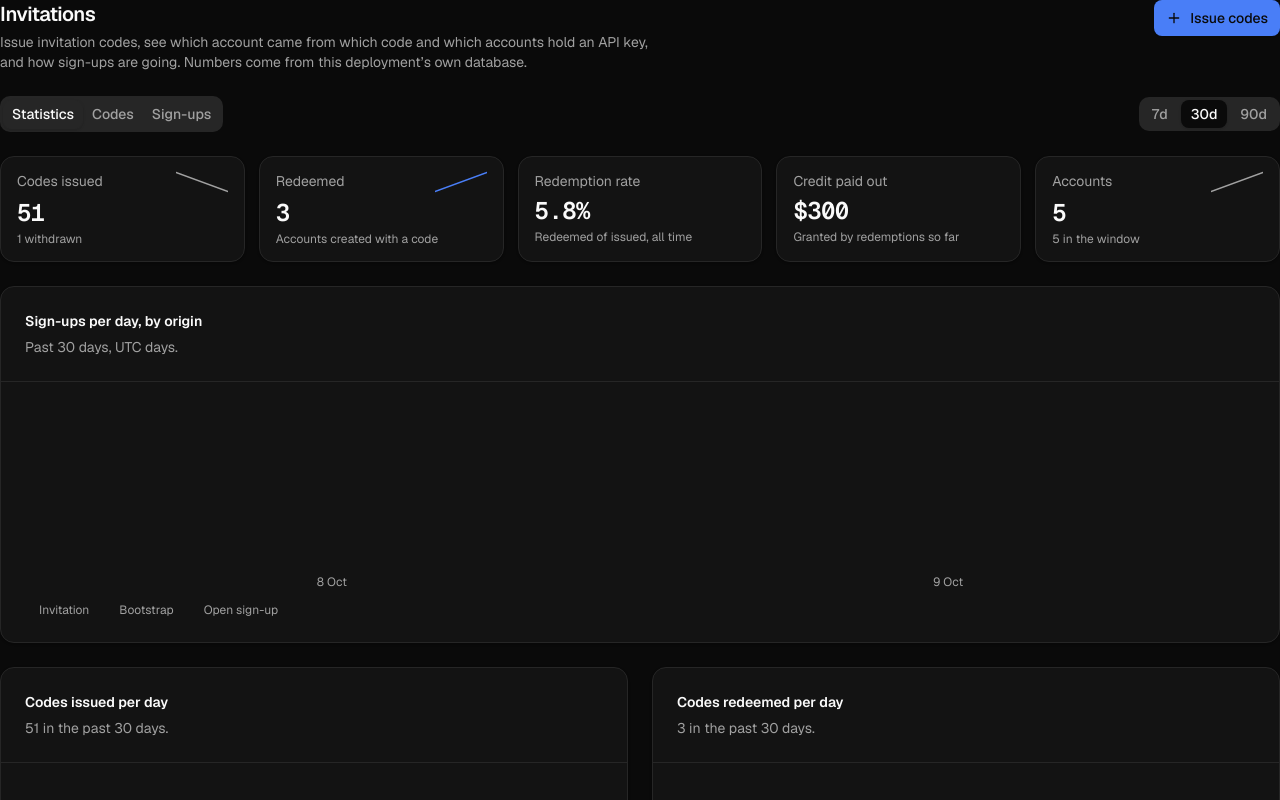
Scenario: InvitationsScreen › masks codes until asked, and copies or reveals one row at a time
Click the tab "Codes": (113, 114) [83,100,143,128]
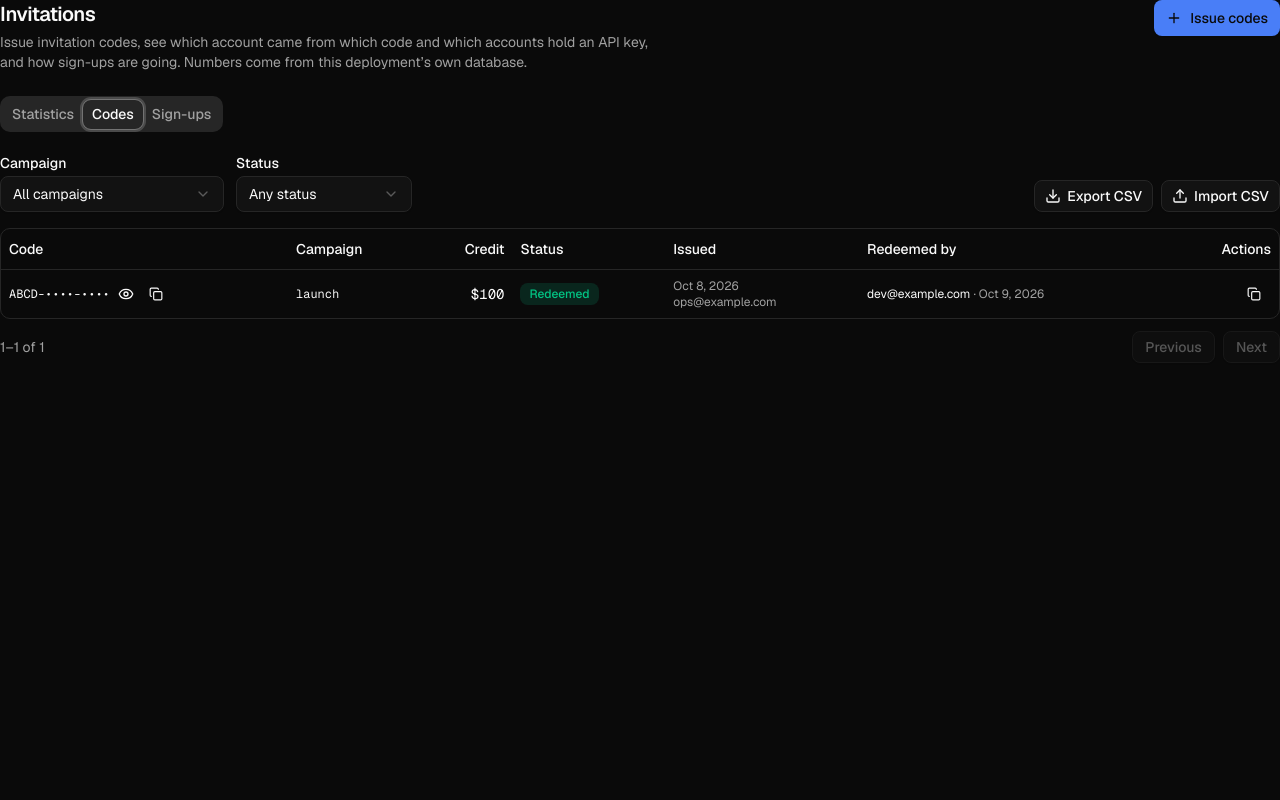
Now the text with test id "invite-code" reads "ABCD-••••-••••", box [9,286,110,302]
Now the row with test id "invite-code-row-code-1" shows "dev@example.com", box [867,286,970,302]
Now the row with test id "invite-code-row-code-1" shows "Redeemed", box [530,286,590,302]
Click the button named "Reveal code ABCD-••••-••••": (126, 294) [112,280,140,308]
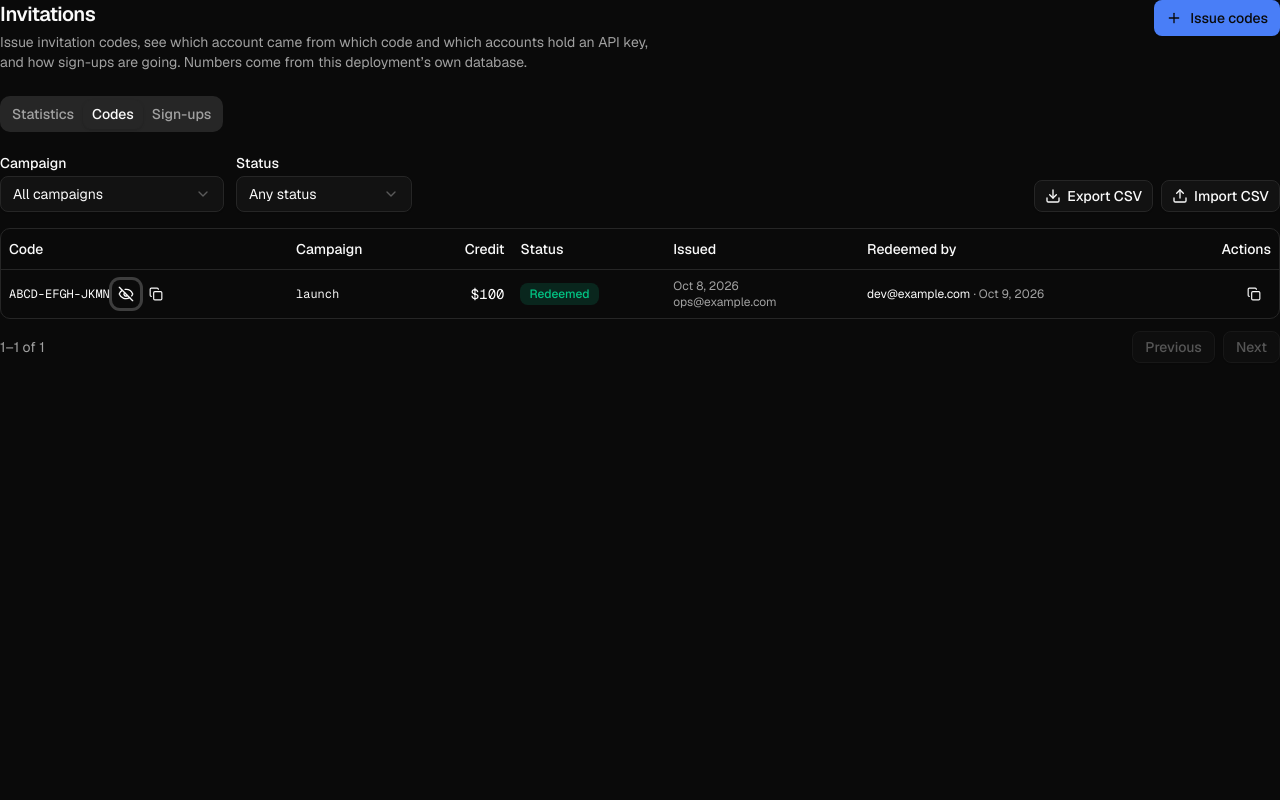
Now the text with test id "invite-code" reads "ABCD-EFGH-JKMN", box [9,286,110,302]
